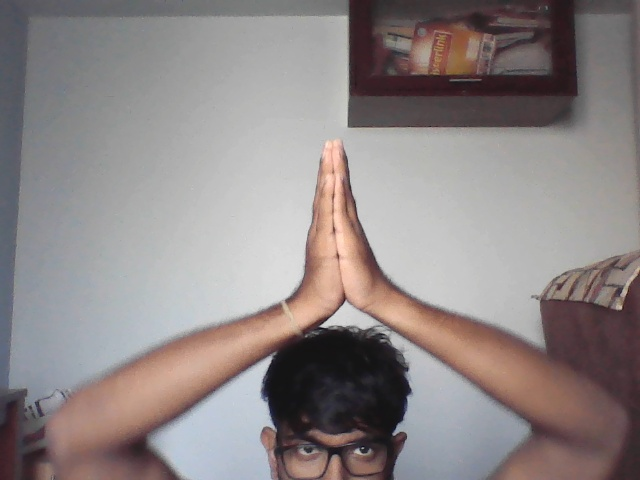Sign: (297, 138, 386, 325)
